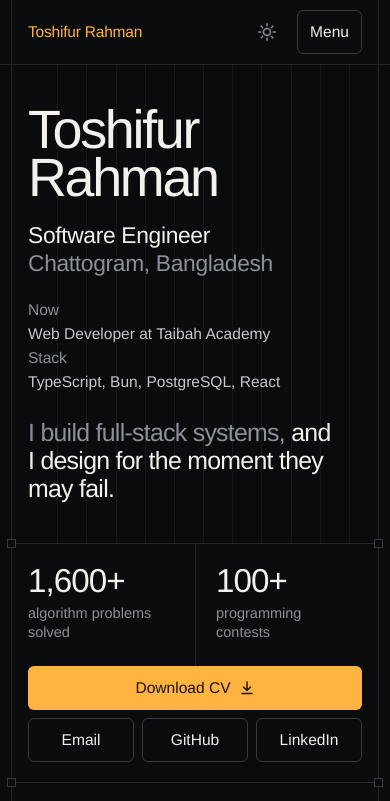
Test case: phone menu › closes the list when a link is chosen
This screenshot has width=390, height=801.
Click the button "Menu" at x=330, y=32, box [297,10,362,54]
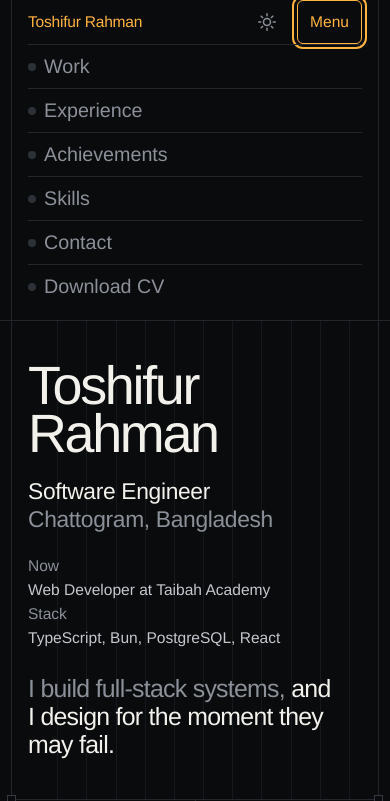
Click the link "Contact" at x=78, y=242, box [28,220,362,264]
(page scrolled)
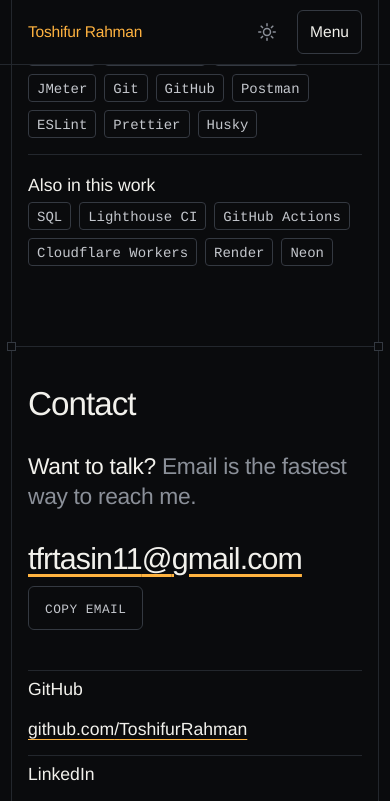
Expected: the button "Menu" is collapsed, [297,10,362,54]
